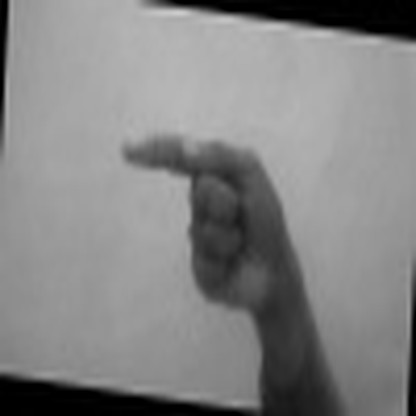g: (116, 127, 307, 314)
